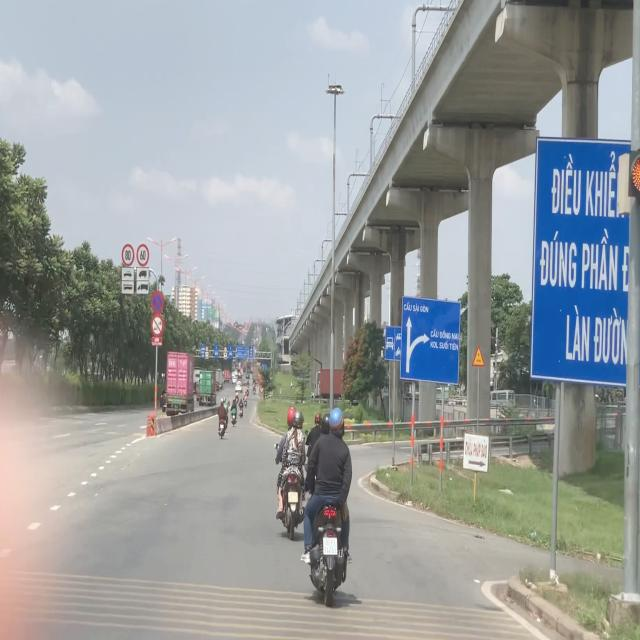Cam con lai: (151, 315, 164, 338)
Cam dung va do: (151, 290, 164, 314)
Nguy hiem: (471, 344, 486, 368)
Toc do toi da: (121, 244, 135, 268), (136, 243, 150, 267)
